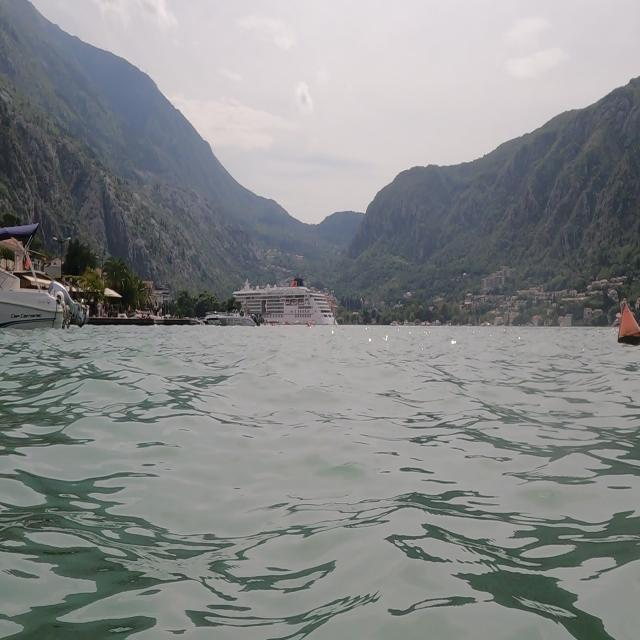boat: (0, 213, 88, 347), (233, 280, 346, 338)
buoy: (609, 290, 640, 356)
